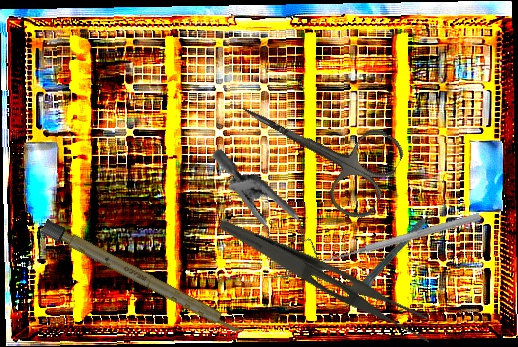Dressing Forceps: (208, 218, 442, 346)
Handpiece: (354, 206, 441, 298)
Iris Scissors: (221, 66, 409, 226)
Pusher: (321, 210, 482, 267)
Scalpel Handle: (40, 219, 247, 338)
Speculum: (178, 147, 348, 292)
